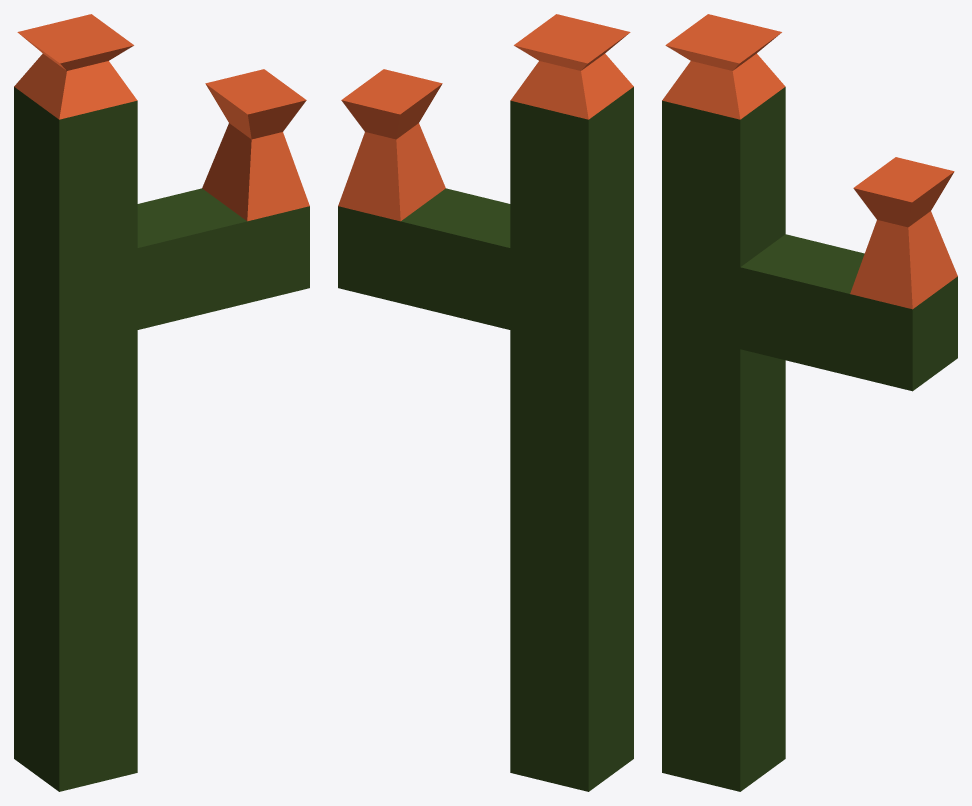
Rendered from Cactus_01.glb.
3 renders of one model, left to right at view 1: azimuth 30°, elevation 25°; view 2: azimuth 150°, elevation 25°; view 3: azimuth 330°, elevation 25°, orthographic.
Visible parts, largest first — view 1: Cube; view 2: Cube; view 3: Cube.
Part boxes in pixels (x1,y1,x2,y2): Cube: [14, 14, 309, 791]; Cube: [338, 14, 633, 791]; Cube: [662, 14, 957, 791].
Size of the model in its own units: 1.6 by 4.43 by 0.5.
